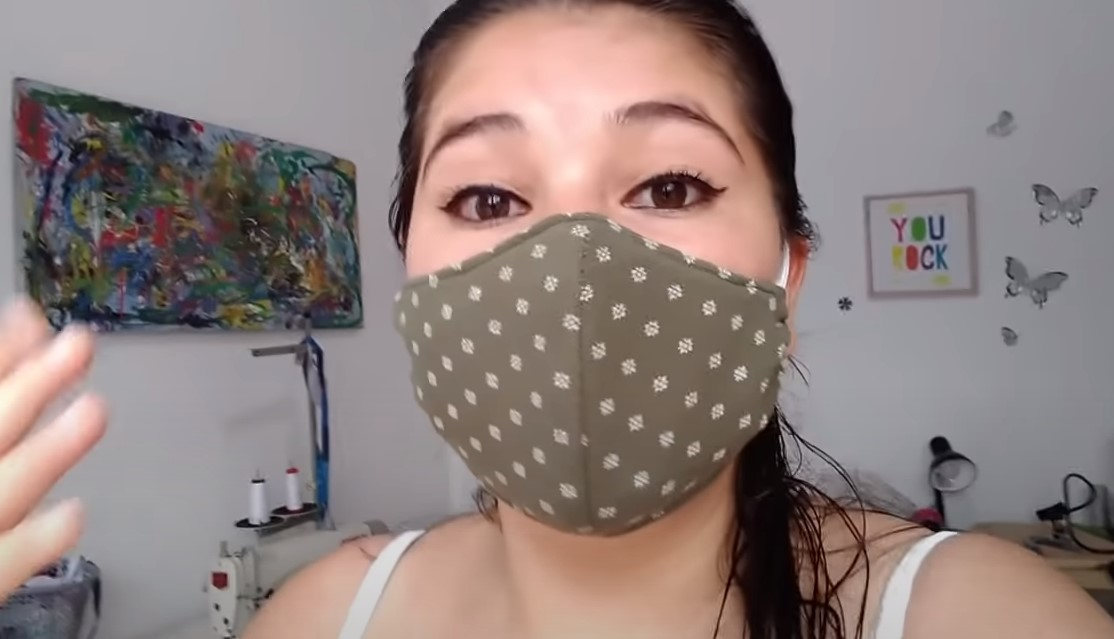face_with_mask: (396, 9, 810, 542)
